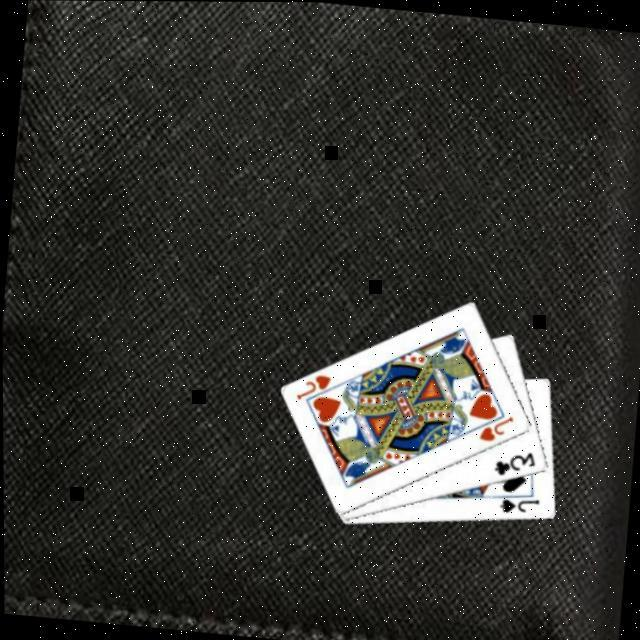3C: (491, 442, 540, 478)
JH: (475, 407, 517, 443), (292, 366, 334, 402)
JS: (496, 490, 542, 516)
